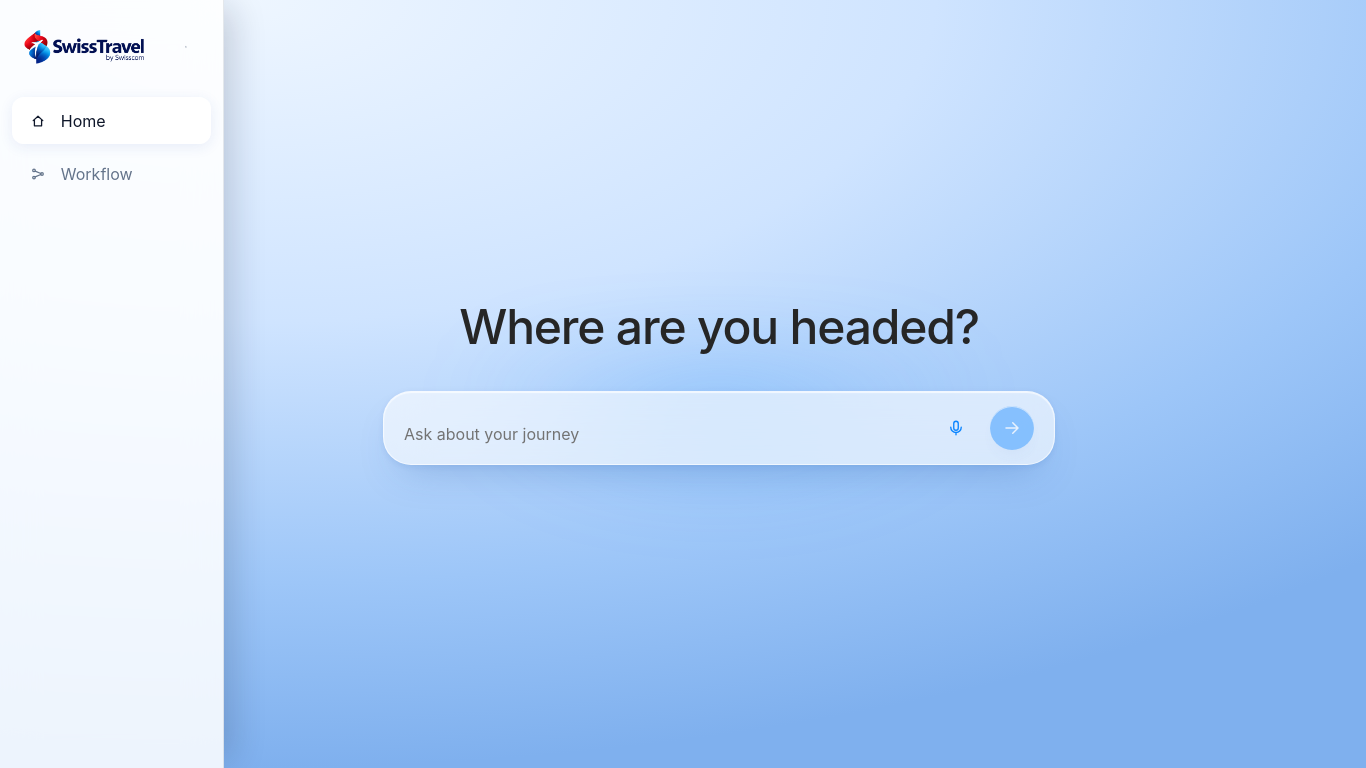
App › collapses the hero and renders the streamed reply after submitting
Step 1. Type "Trains from Bern to Zürich" into the text box with placeholder "Ask about your journey" → (663, 434), box [404,418,922,450]
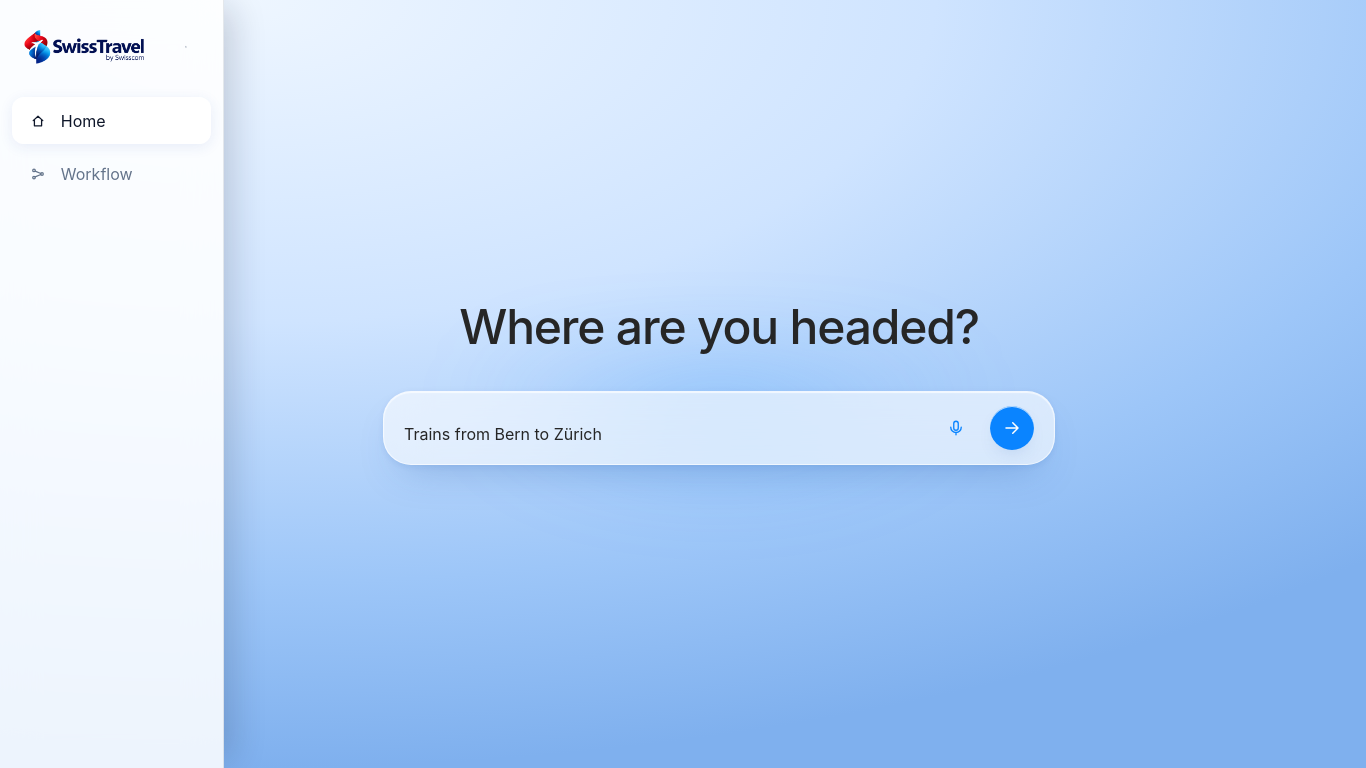
Step 2. Submit the form with placeholder "ask about your journey", box [383,391,1055,465]
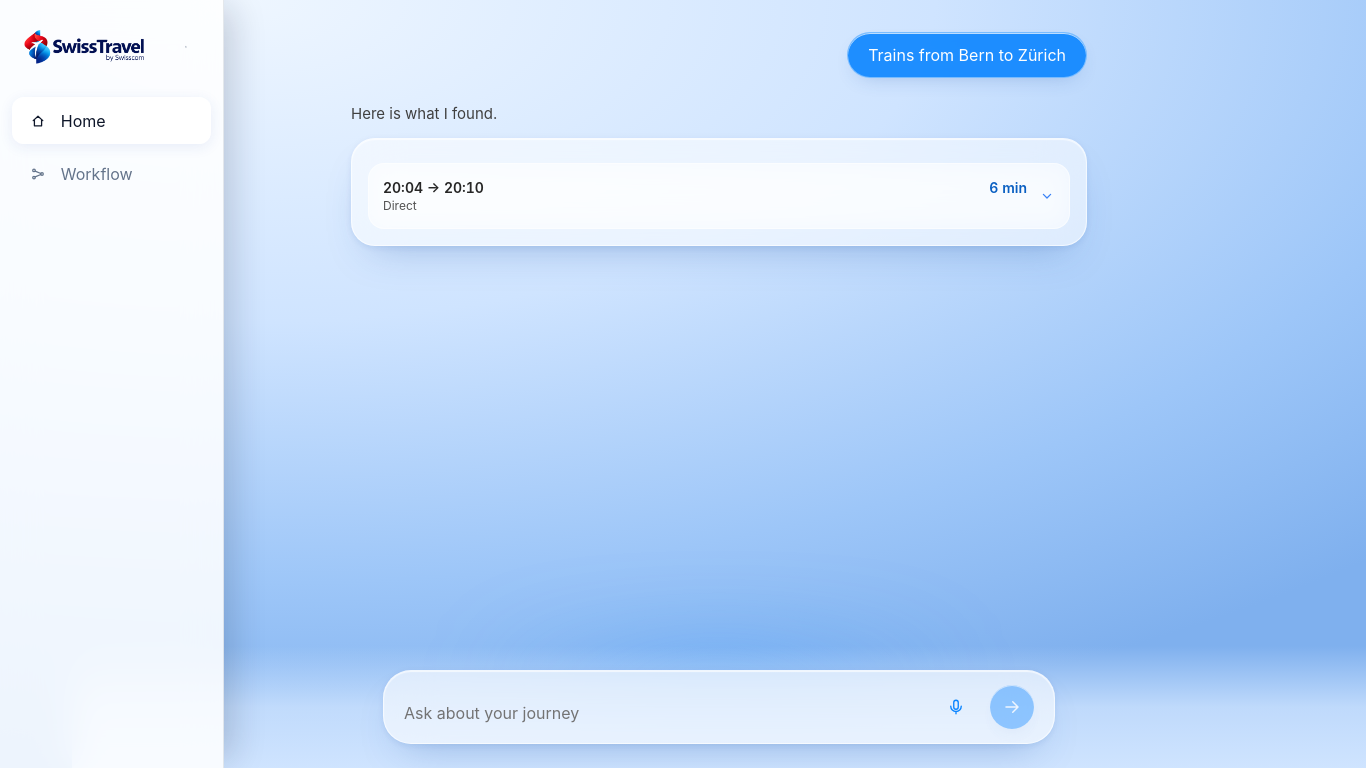
Expected: the text "Trains from Bern to Zürich" is shown, [847,32,1087,78]
Expected: the text "Here is what I found." is shown, [351,104,497,123]
Expected: the text "Direct" is shown, [383,198,417,213]
